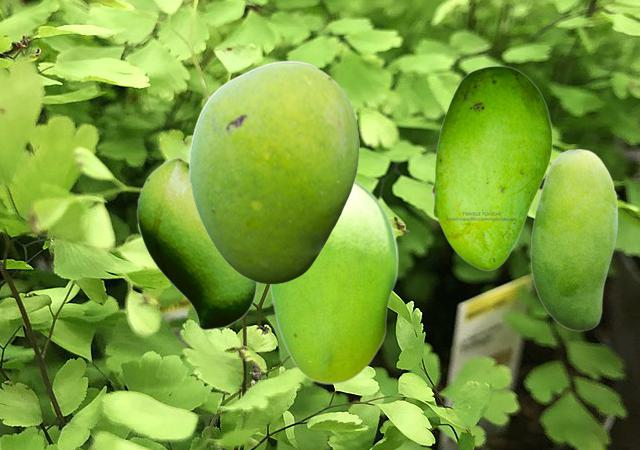green_mango: (188, 60, 358, 283), (269, 178, 397, 383), (431, 65, 552, 270), (136, 156, 256, 329), (530, 148, 617, 330)
